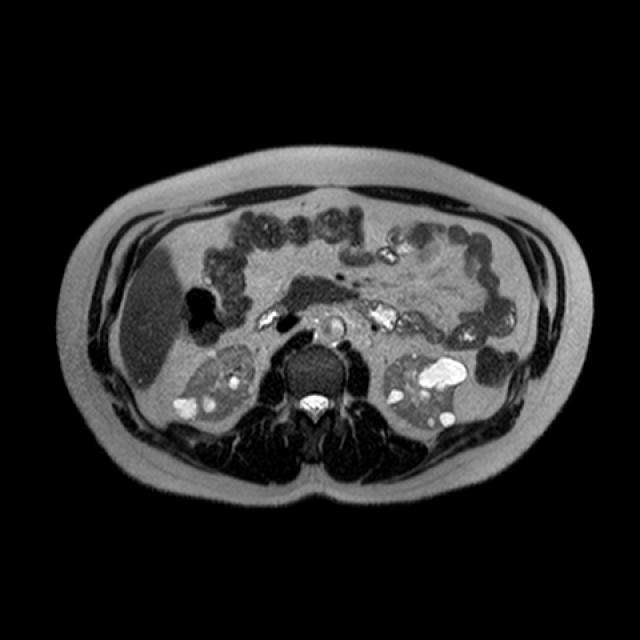sag: (172, 342, 258, 424)
sol: (380, 351, 470, 433)
